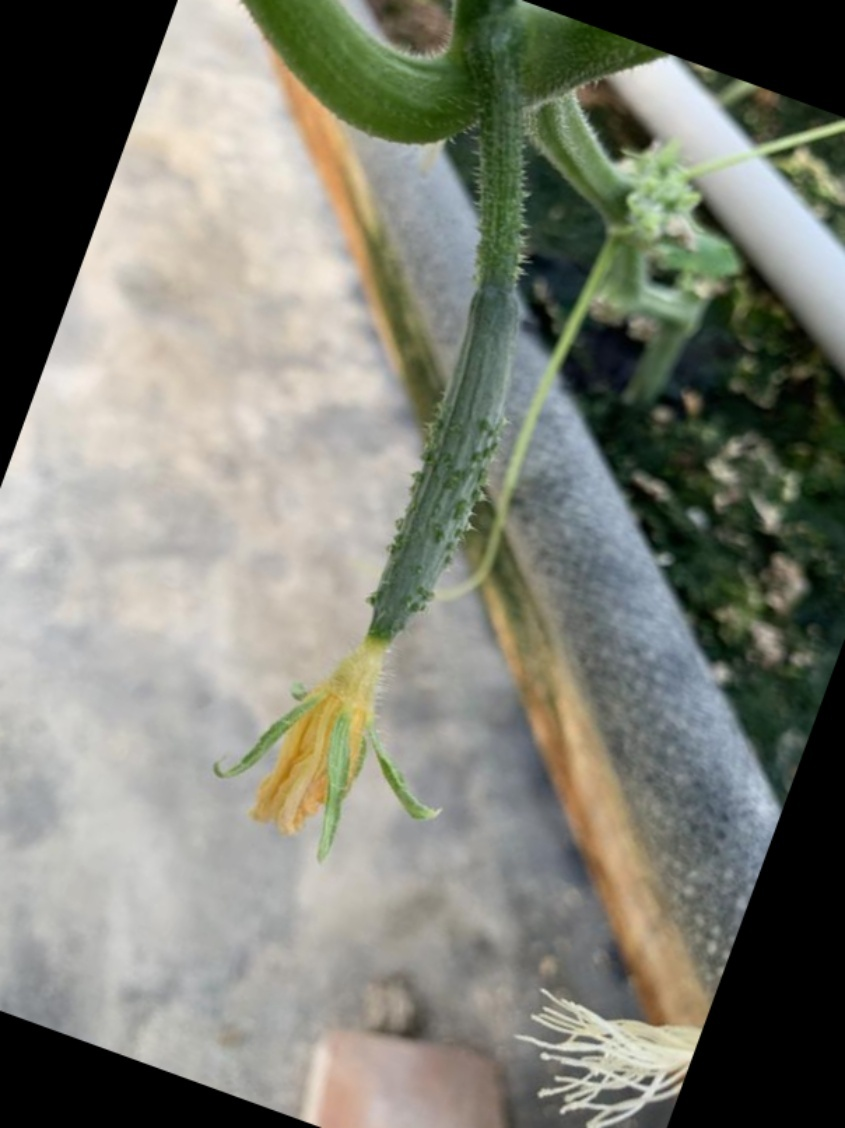bear: (205, 253, 548, 881)
